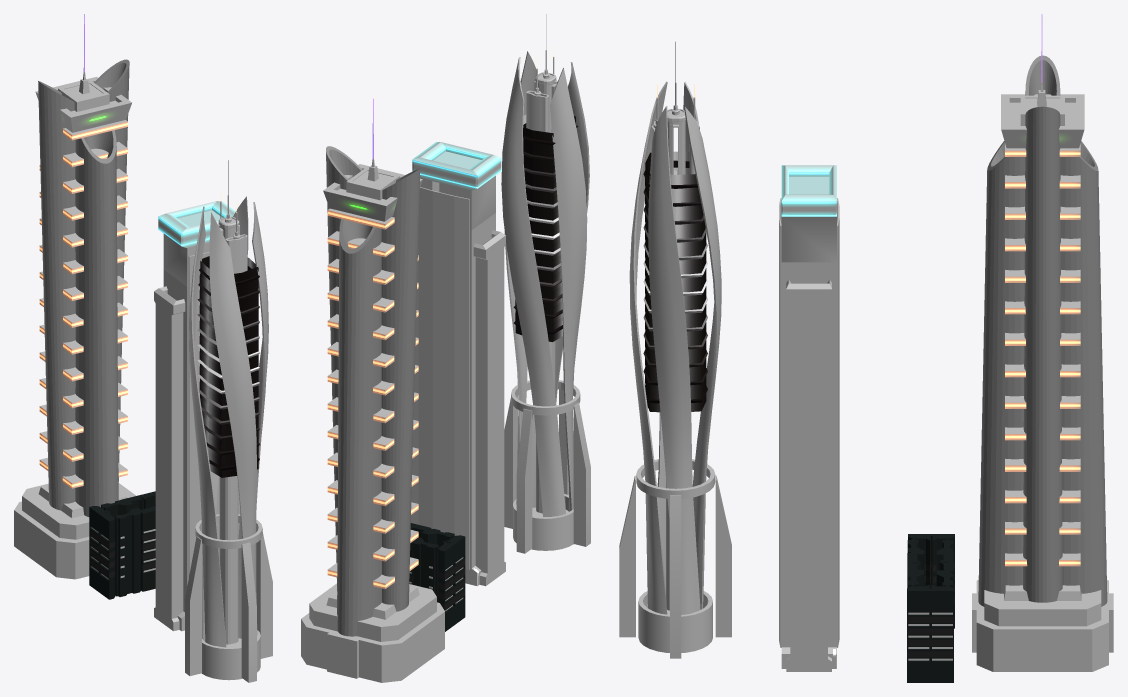
File: Buildings.FBX
3 views of the same model, side by side, from view 1: azimuth 30°, elevation 25°; view 2: azimuth 150°, elevation 25°; view 3: azimuth 270°, elevation 25° (orthographic). The views are drawn at different scales.
Parts seen in each view (by area): view 1: Glass001, GlassTwist, Building, building_36, building_63, building_58, GlowSmoke, Glass, ColorRingsGLow; view 2: Glass001, GlassTwist, building_36, Building, Glass, building_63, GlowSmoke, building_58, ColorRingsGLow; view 3: Glass001, Building, GlassTwist, building_36, building_63, building_58, GlowSmoke, Glass, ColorRingsGLow.
Boxes of the visible parts, <box> form: Glass001: <box>38,59,129,516</box>; GlassTwist: <box>189,196,268,647</box>; Building: <box>154,201,240,631</box>; building_36: <box>14,14,136,579</box>; building_63: <box>185,160,272,682</box>; building_58: <box>89,491,155,599</box>; GlowSmoke: <box>199,256,258,477</box>; Glass: <box>188,252,219,577</box>; ColorRingsGLow: <box>197,264,259,470</box>; Glass001: <box>326,146,420,636</box>; GlassTwist: <box>501,51,589,517</box>; building_36: <box>301,98,444,682</box>; Building: <box>411,142,505,586</box>; Glass: <box>418,187,469,569</box>; building_63: <box>504,14,590,553</box>; GlowSmoke: <box>515,114,575,341</box>; building_58: <box>409,523,465,631</box>; ColorRingsGLow: <box>513,123,577,334</box>; Glass001: <box>978,55,1107,606</box>; Building: <box>781,165,836,671</box>; GlassTwist: <box>629,81,721,614</box>; building_36: <box>972,14,1113,671</box>; building_63: <box>619,41,731,658</box>; building_58: <box>907,534,954,682</box>; GlowSmoke: <box>645,151,706,412</box>; Glass: <box>779,198,839,647</box>; ColorRingsGLow: <box>643,160,707,403</box>.
Size of the model in its own units: 31.75 by 135 by 96.24.
